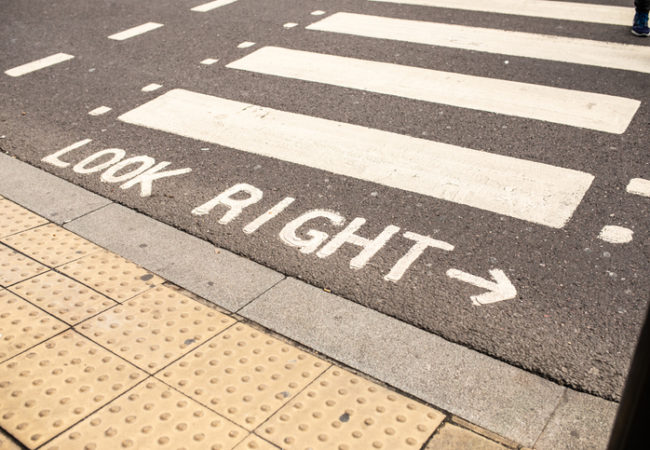Crosswalk: (97, 1, 609, 283)
